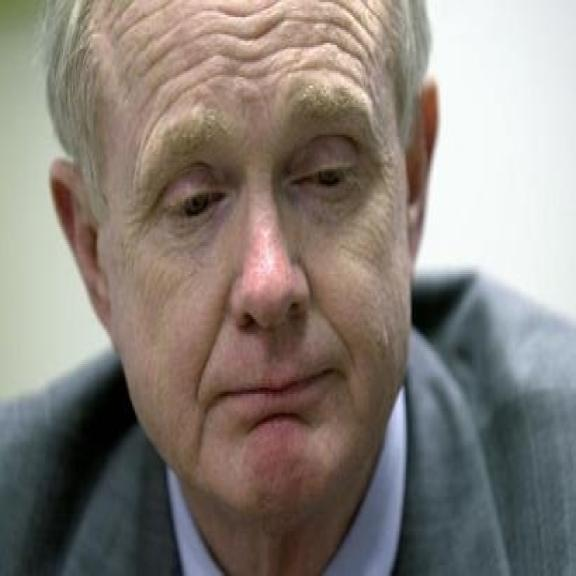face: (45, 1, 442, 538)
